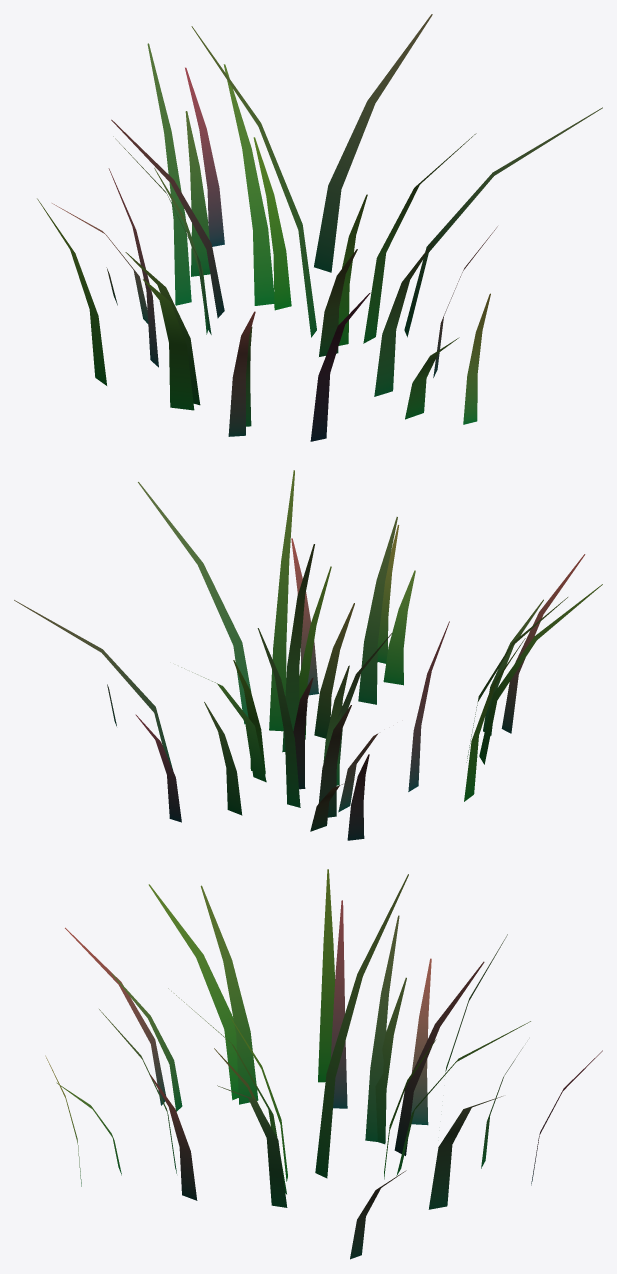
The model's file is tuft.glb.
The picture shows the model from 3 angles, top to bottom: view 1: azimuth 30°, elevation 25°; view 2: azimuth 150°, elevation 25°; view 3: azimuth 270°, elevation 25°; orthographic projection. The views are drawn at different scales.
Parts seen in each view (by area): view 1: Tuft; view 2: Tuft; view 3: Tuft.
Part boxes in pixels (bbox=[...]): Tuft: bbox=[37, 14, 602, 441]; Tuft: bbox=[14, 470, 602, 840]; Tuft: bbox=[45, 869, 602, 1259].
Bounding box in the file's own units: 0.2828 × 0.154 × 0.3068.
